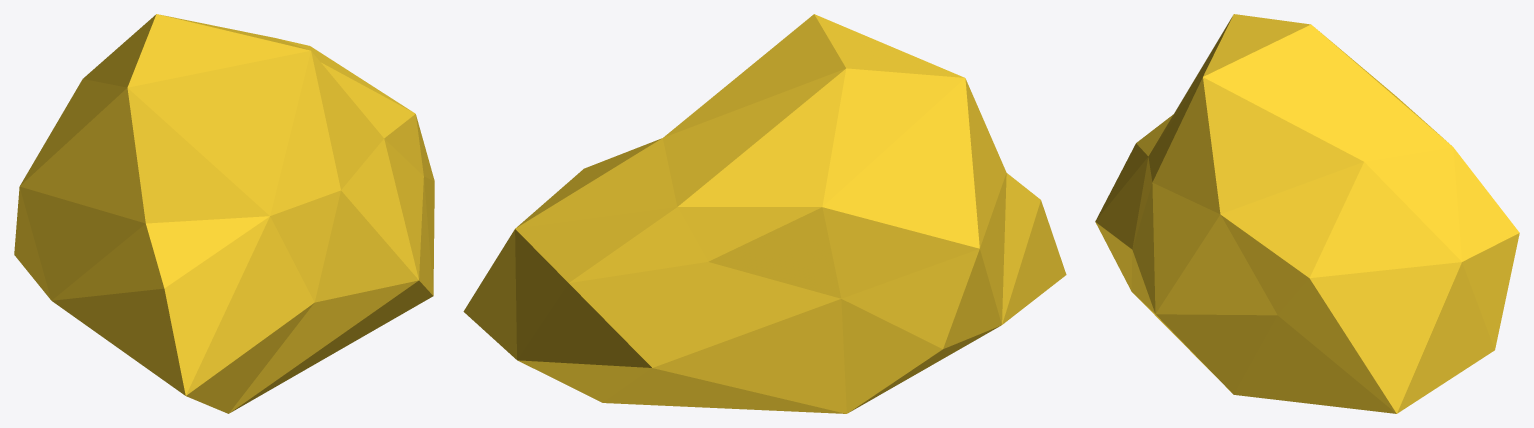
Rendered from stone03.fbx.
The picture shows the model from 3 angles, left to right: view 1: azimuth 30°, elevation 25°; view 2: azimuth 150°, elevation 25°; view 3: azimuth 270°, elevation 25°; orthographic projection. The views are drawn at different scales.
Visible parts, largest first — view 1: Icosphere; view 2: Icosphere; view 3: Icosphere.
Boxes of the visible parts, box(x1,y1,x2,y2) form: Icosphere: box(14, 14, 434, 413); Icosphere: box(463, 14, 1066, 413); Icosphere: box(1095, 14, 1519, 413).
Size of the model in its own units: 0.6923 by 0.4879 by 0.6272.
